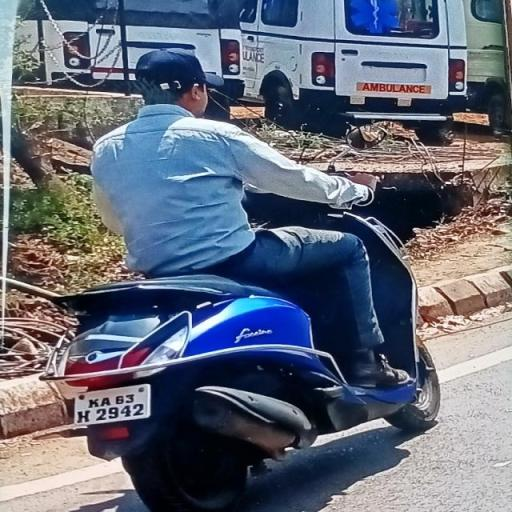bike: (38, 49, 448, 512)
numberplate: (67, 380, 158, 428)
withouthelmet: (137, 52, 203, 110)
